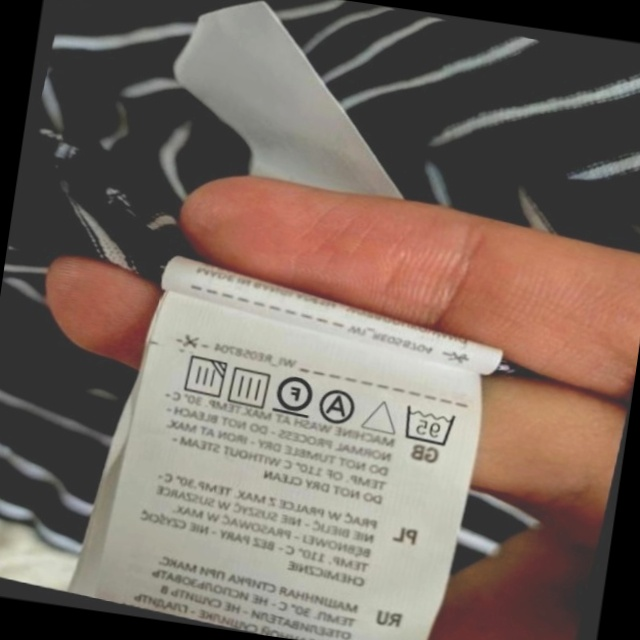95C: (397, 400, 459, 450)
bleach: (360, 391, 403, 439)
drip_dry: (223, 361, 275, 411)
drip_dry_in_shade: (176, 350, 229, 402)
dry_clean: (316, 385, 361, 428)
dry_clean_petrol_only: (270, 368, 318, 421)
